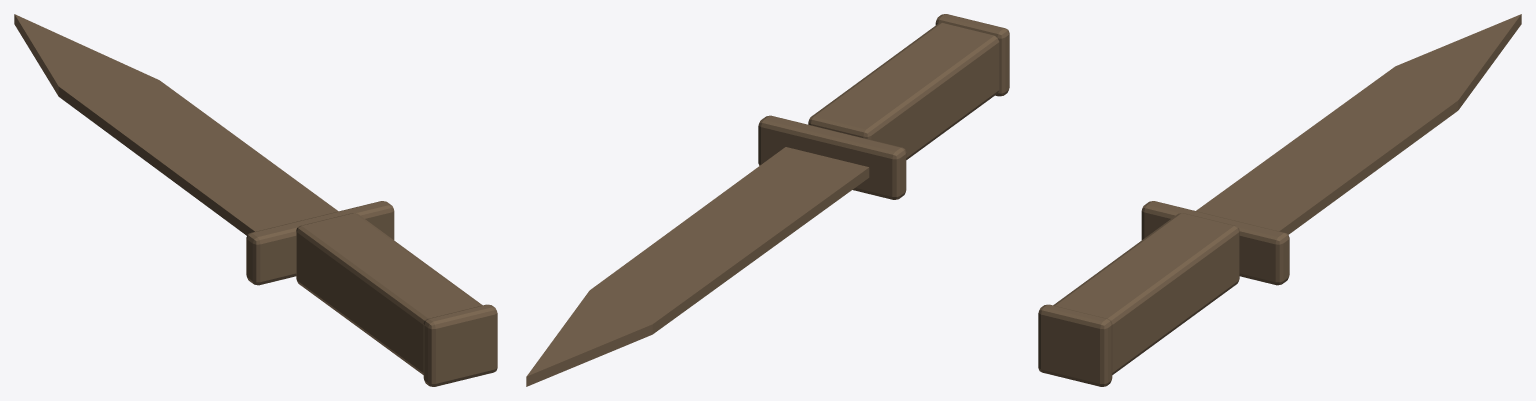
The model's file is knife_stained.glb.
3 renders of one model, left to right at view 1: azimuth 30°, elevation 25°; view 2: azimuth 150°, elevation 25°; view 3: azimuth 330°, elevation 25°, orthographic.
Parts seen in each view (by area): view 1: KnifeBlade, KnifeHandle, KnifePommel, KnifeGuard; view 2: KnifeBlade, KnifeHandle, KnifeGuard, KnifePommel; view 3: KnifeBlade, KnifeHandle, KnifePommel, KnifeGuard.
Part boxes in pixels (x1,y1,x2,y2): KnifeBlade: (14, 14, 338, 235); KnifeHandle: (296, 213, 482, 374); KnifePommel: (423, 304, 497, 386); KnifeGuard: (246, 201, 394, 285); KnifeBlade: (526, 147, 869, 386); KnifeHandle: (808, 23, 999, 159); KnifeGuard: (758, 115, 906, 199); KnifePommel: (935, 14, 1009, 96); KnifeBlade: (1196, 14, 1521, 234); KnifeHandle: (1053, 213, 1239, 374); KnifePommel: (1038, 304, 1112, 386); KnifeGuard: (1141, 201, 1289, 285).
Size of the model in its own units: 0.086 by 0.038 by 0.476.
